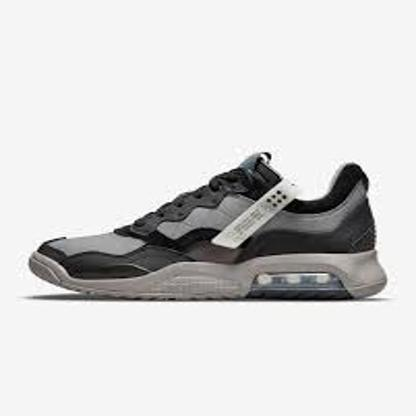not trash: (31, 151, 388, 301)
